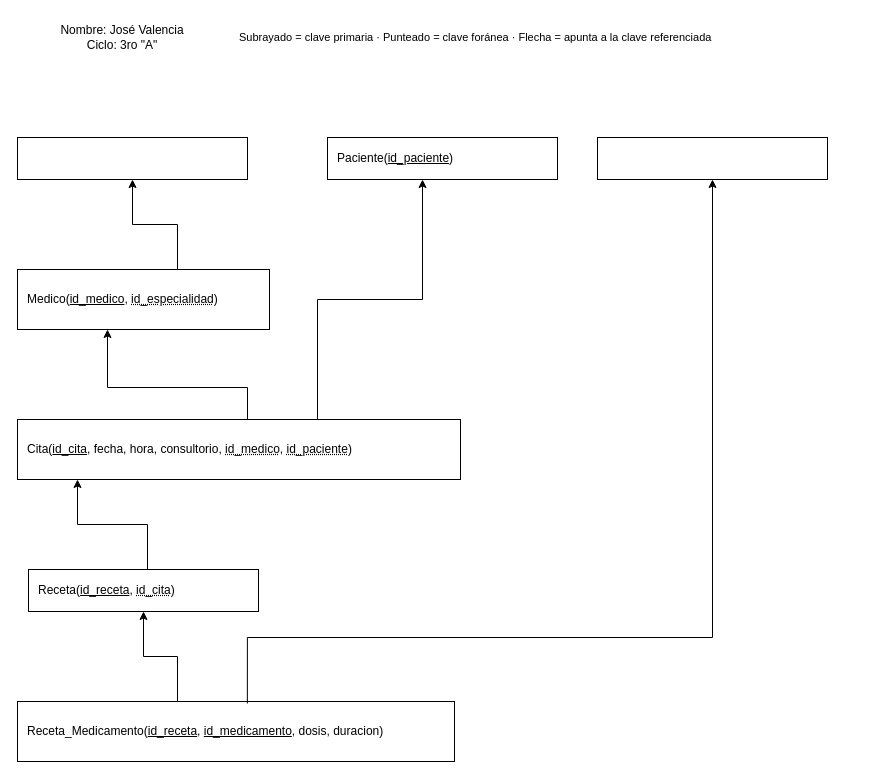
The diagram is 875 pixels wide and 779 high, and some of its shapes have lost their labels. The shapes that lost their labels are listed below. From the top down, each one's box as (x1, y1, x2, y2) in pixels, then its label:
(16, 136, 248, 180): Especialidad( id_especialidad )
(596, 136, 828, 180): Medicamentos( id_medicamento )
